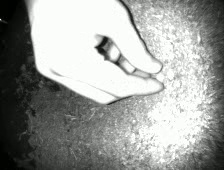corn: (153, 70, 165, 84)
